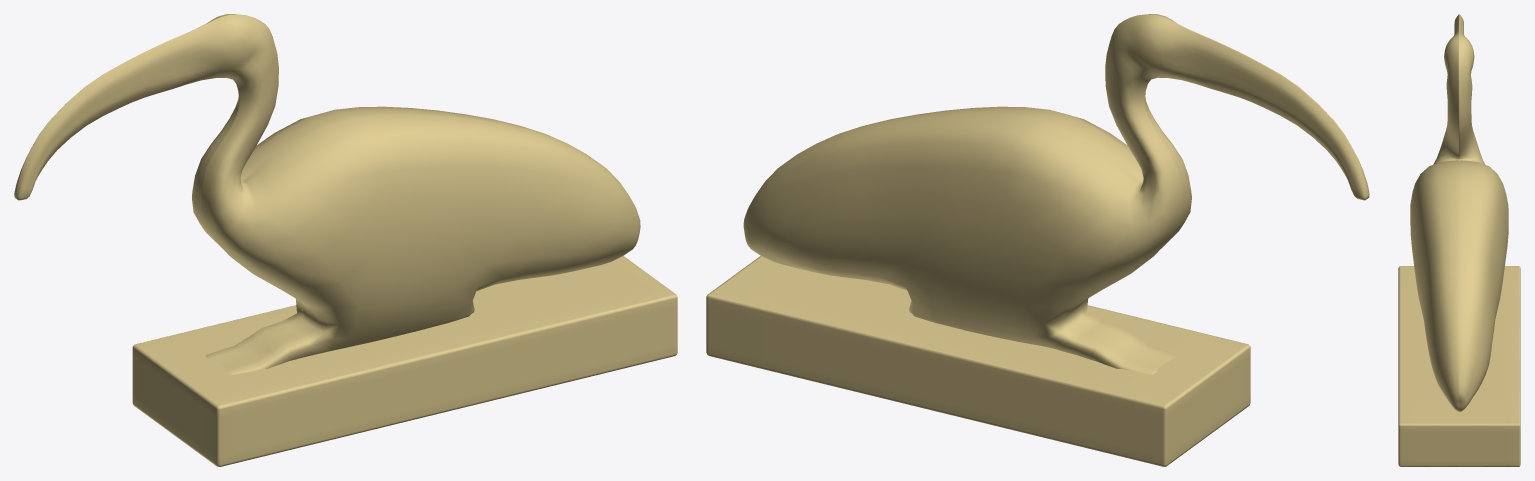
File: Baird_iteam.fbx
The picture shows the model from 3 angles, left to right: view 1: azimuth 30°, elevation 25°; view 2: azimuth 150°, elevation 25°; view 3: azimuth 270°, elevation 25°; orthographic projection. The views are drawn at different scales.
Visible parts, largest first — view 1: polySurface2; view 2: polySurface2; view 3: polySurface2.
Part boxes in pixels (box(x1,y1,x2,y2)): polySurface2: box(14, 14, 677, 466); polySurface2: box(706, 14, 1369, 466); polySurface2: box(1398, 14, 1520, 466).
Bounding box in the file's own units: 34.65 × 21.75 × 8.31.
